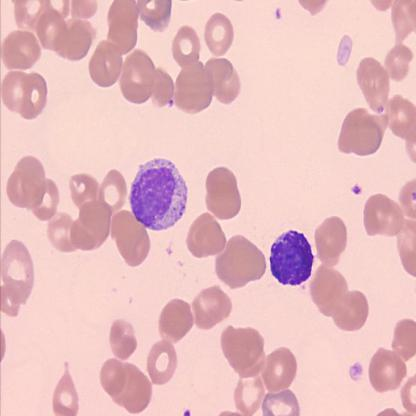Basophil: (128, 156, 190, 233), (268, 227, 315, 290)
